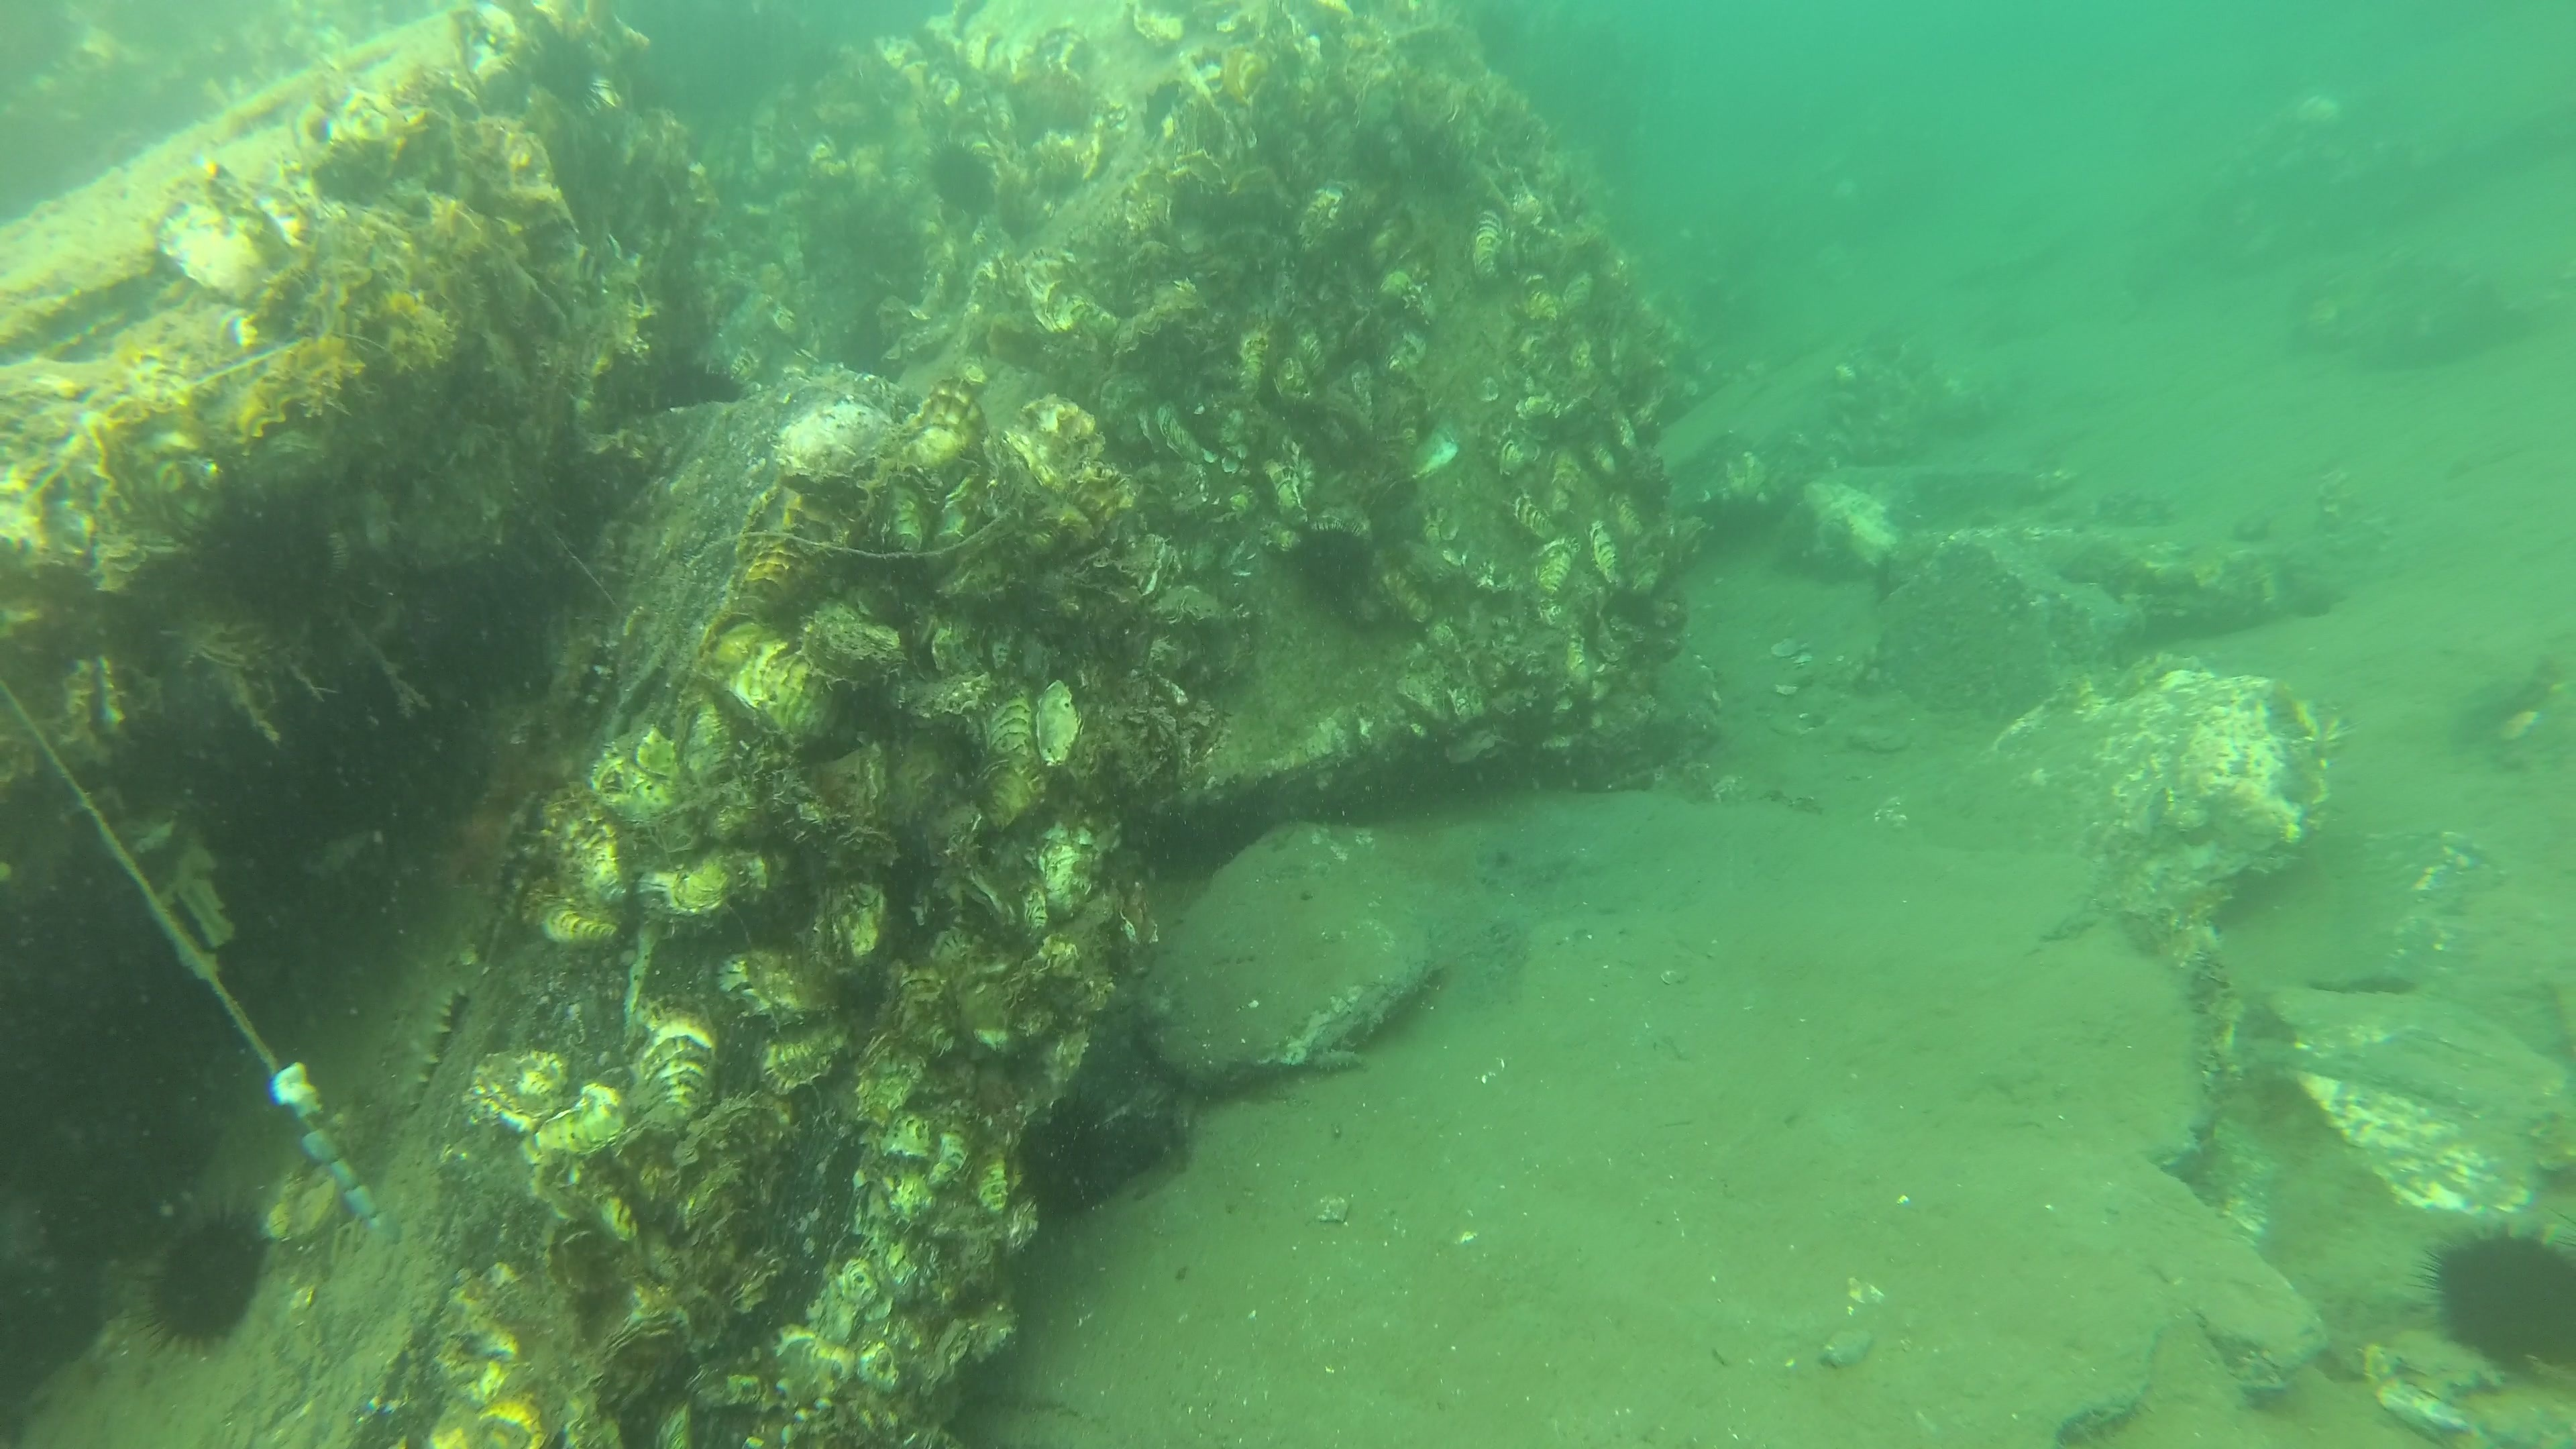echinus: (2438, 1212, 2576, 1373), (154, 1201, 267, 1362), (1030, 1083, 1131, 1215)
holothurian: (387, 993, 464, 1115)
